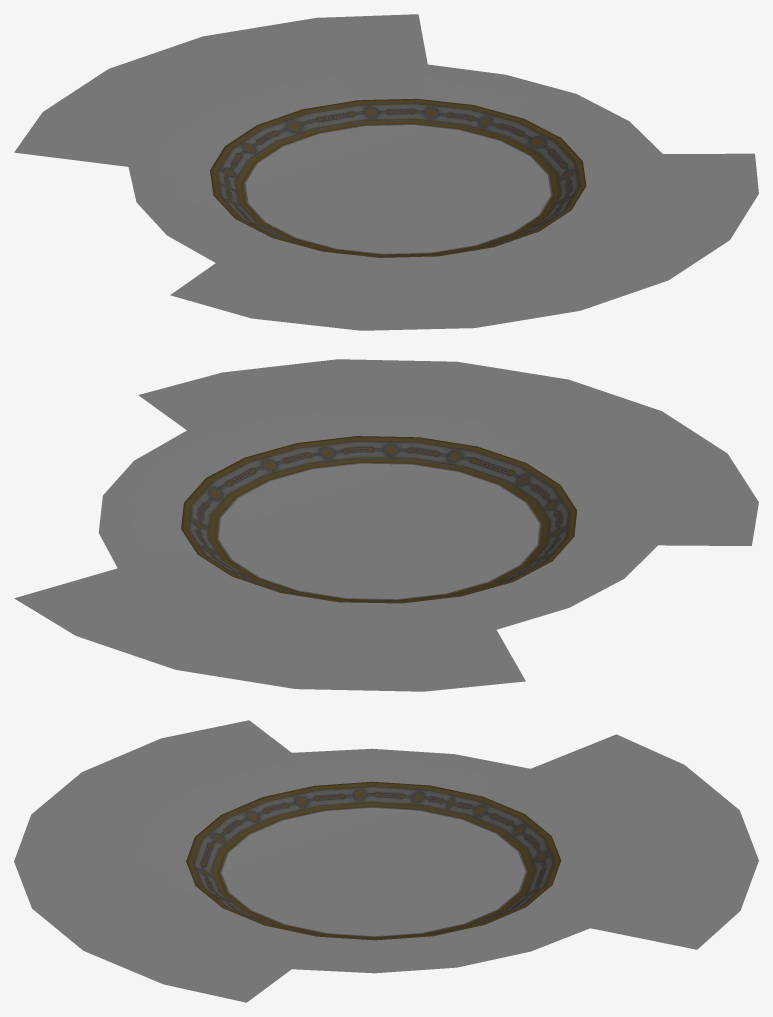
File: floor.obj
3 renders of one model, top to bottom at view 1: azimuth 30°, elevation 25°; view 2: azimuth 150°, elevation 25°; view 3: azimuth 270°, elevation 25°, orthographic. The views are drawn at different scales.
Visible parts, largest first — view 1: FLOOR pCylinder44group35polySurface2, pCylinder44group35polySurface3 FLOOR, FLOOR polySurface1pCylinder44group35; view 2: FLOOR pCylinder44group35polySurface2, pCylinder44group35polySurface3 FLOOR, FLOOR polySurface1pCylinder44group35; view 3: FLOOR pCylinder44group35polySurface2, pCylinder44group35polySurface3 FLOOR, FLOOR polySurface1pCylinder44group35.
Part boxes in pixels (x1=…): FLOOR pCylinder44group35polySurface2: x1=14, y1=14, x2=758, y2=330; pCylinder44group35polySurface3 FLOOR: x1=245, y1=125, x2=550, y2=253; FLOOR polySurface1pCylinder44group35: x1=210, y1=98, x2=586, y2=257; FLOOR pCylinder44group35polySurface2: x1=14, y1=359, x2=758, y2=691; pCylinder44group35polySurface3 FLOOR: x1=218, y1=463, x2=539, y2=599; FLOOR polySurface1pCylinder44group35: x1=181, y1=436, x2=576, y2=603; FLOOR pCylinder44group35polySurface2: x1=14, y1=720, x2=758, y2=1002; pCylinder44group35polySurface3 FLOOR: x1=221, y1=807, x2=525, y2=936; FLOOR polySurface1pCylinder44group35: x1=186, y1=781, x2=561, y2=940.
Size of the model in its own units: 185 by 3.35 by 207.
2 materials, 1 textured.
